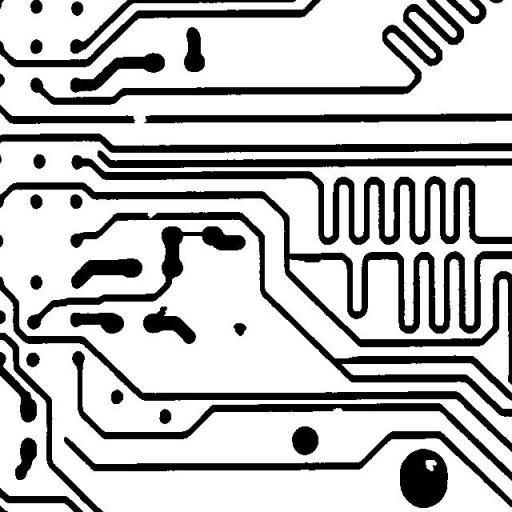copper: (226, 315, 254, 343)
mousebite: (139, 202, 164, 226), (324, 400, 350, 419)
open: (124, 105, 154, 131)
pin-hole: (418, 452, 444, 478)
short: (278, 246, 330, 270), (169, 224, 211, 243), (326, 350, 363, 371)
spur: (148, 298, 174, 325)
